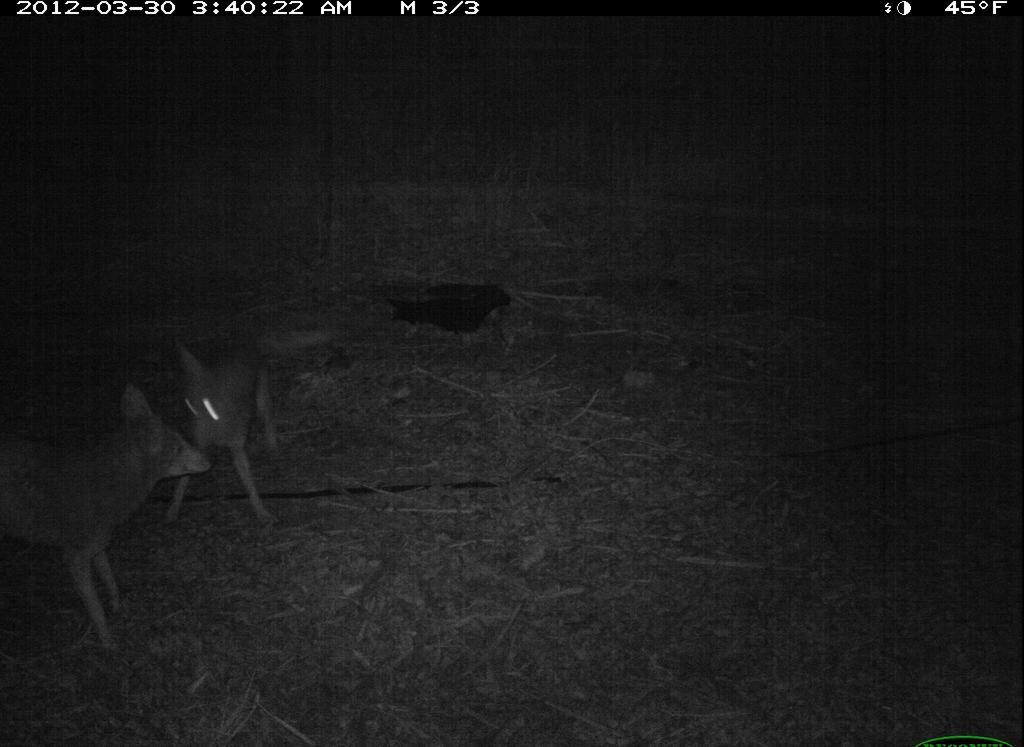coyote: (11, 374, 222, 658), (166, 338, 277, 542)
